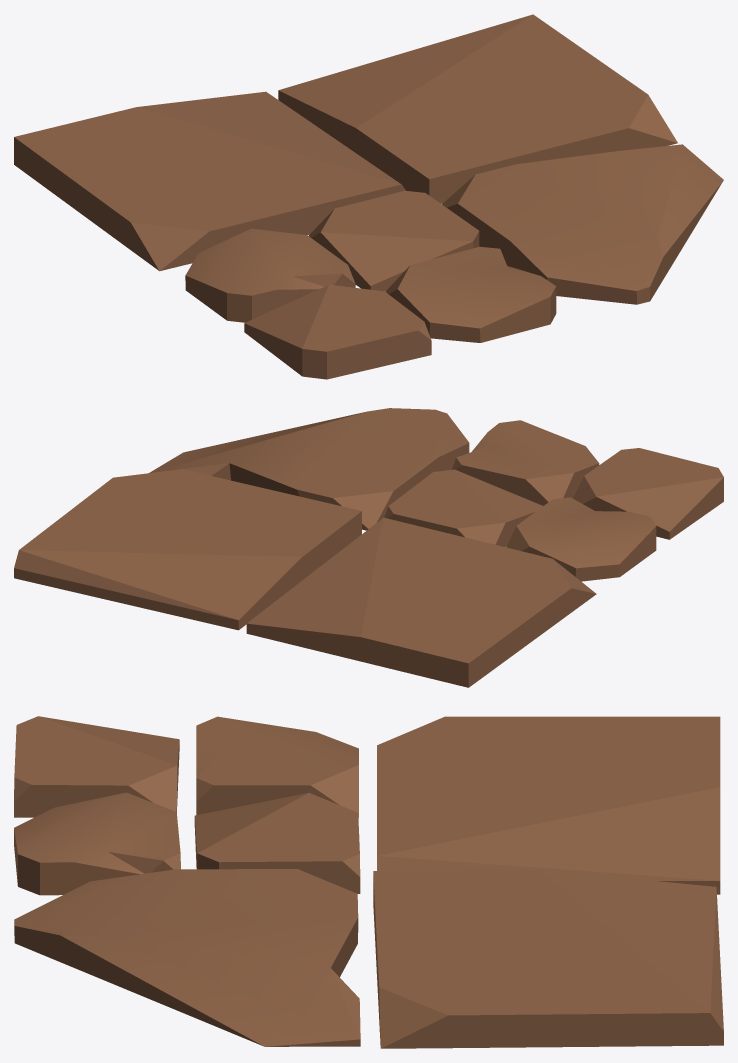
The model's file is Stonewalk_002.FBX.
The picture shows the model from 3 angles, top to bottom: view 1: azimuth 30°, elevation 25°; view 2: azimuth 150°, elevation 25°; view 3: azimuth 270°, elevation 25°; orthographic projection. The views are drawn at different scales.
Parts seen in each view (by area): view 1: Stonewalk_002; view 2: Stonewalk_002; view 3: Stonewalk_002.
Part boxes in pixels (x1=…): Stonewalk_002: x1=14, y1=14, x2=723, y2=379; Stonewalk_002: x1=14, y1=408, x2=723, y2=687; Stonewalk_002: x1=14, y1=716, x2=723, y2=1048.
Size of the model in its own units: 77.29 by 3.94 by 77.33.
